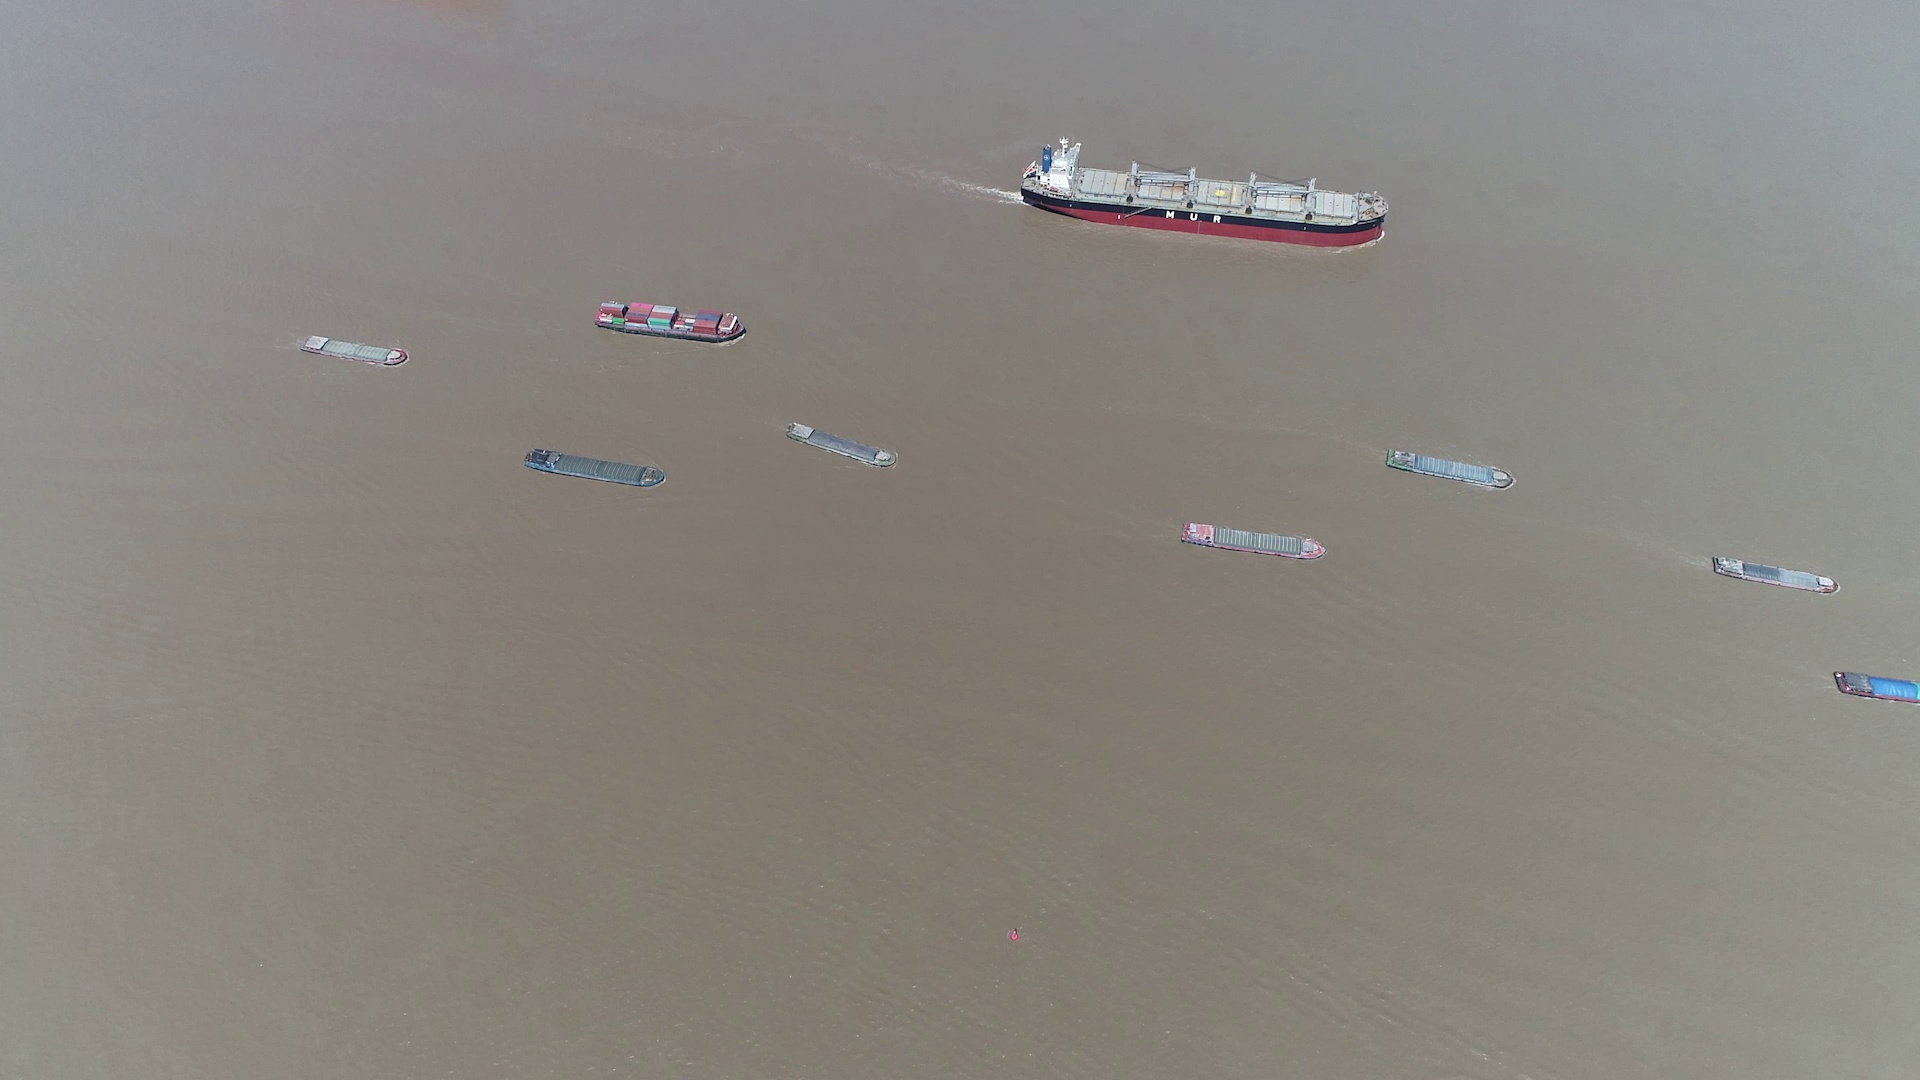ship: (1021, 145, 1387, 247), (593, 299, 750, 342), (524, 448, 665, 489), (1182, 522, 1327, 560), (1385, 448, 1515, 491), (1710, 553, 1838, 593), (785, 423, 895, 469), (301, 334, 409, 367), (1836, 673, 1917, 707)
